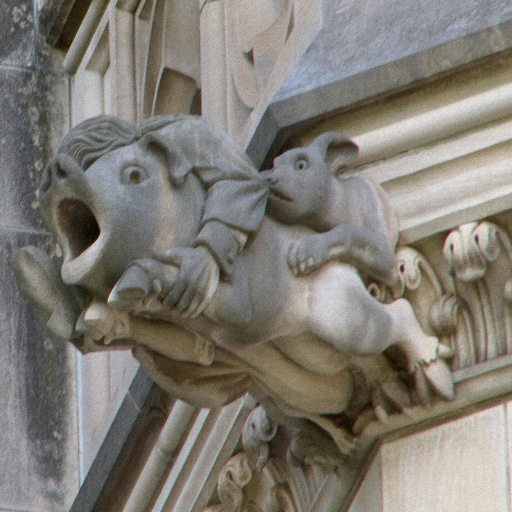hand: (151, 248, 220, 321)
